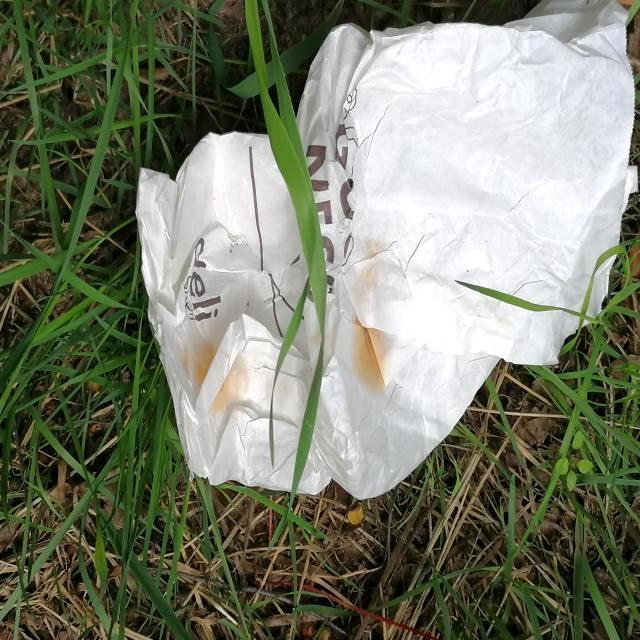Paper: (132, 1, 638, 505)
